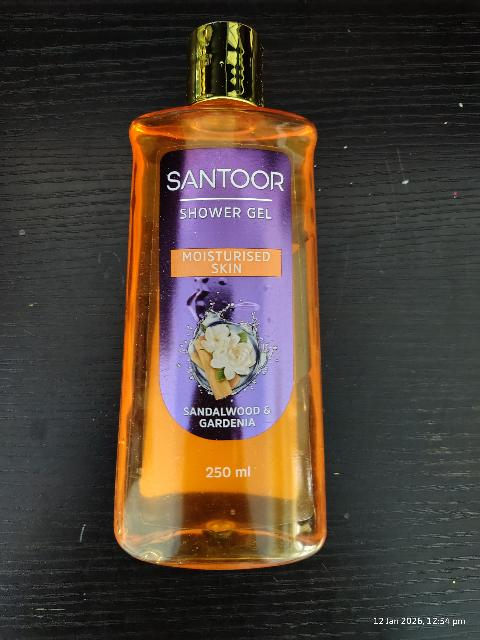santoor bodywash: (113, 19, 331, 577)
